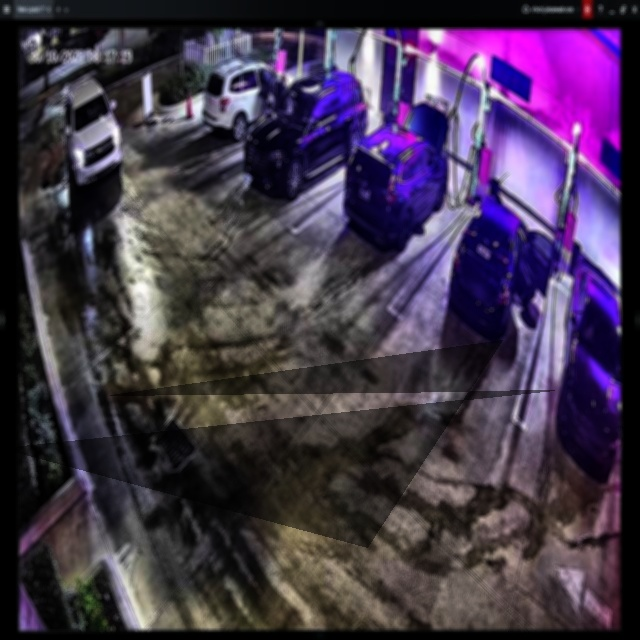Car: (344, 100, 450, 250), (450, 190, 556, 337), (245, 75, 365, 196)
